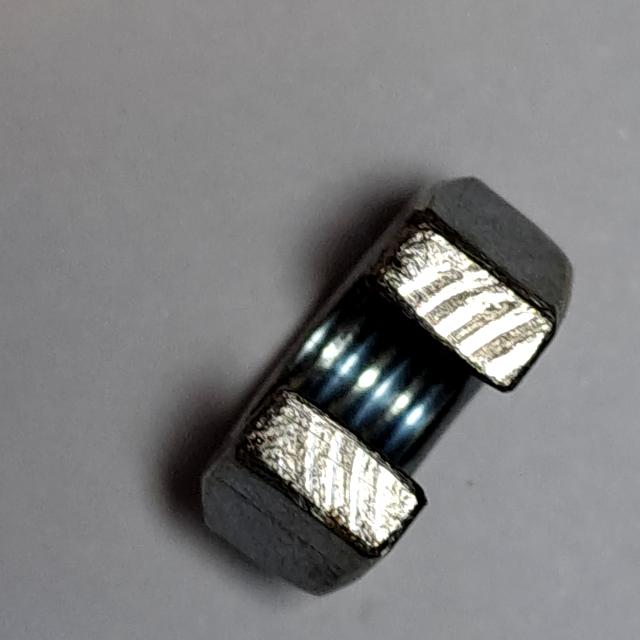Side-Fracture: (188, 164, 592, 617)
